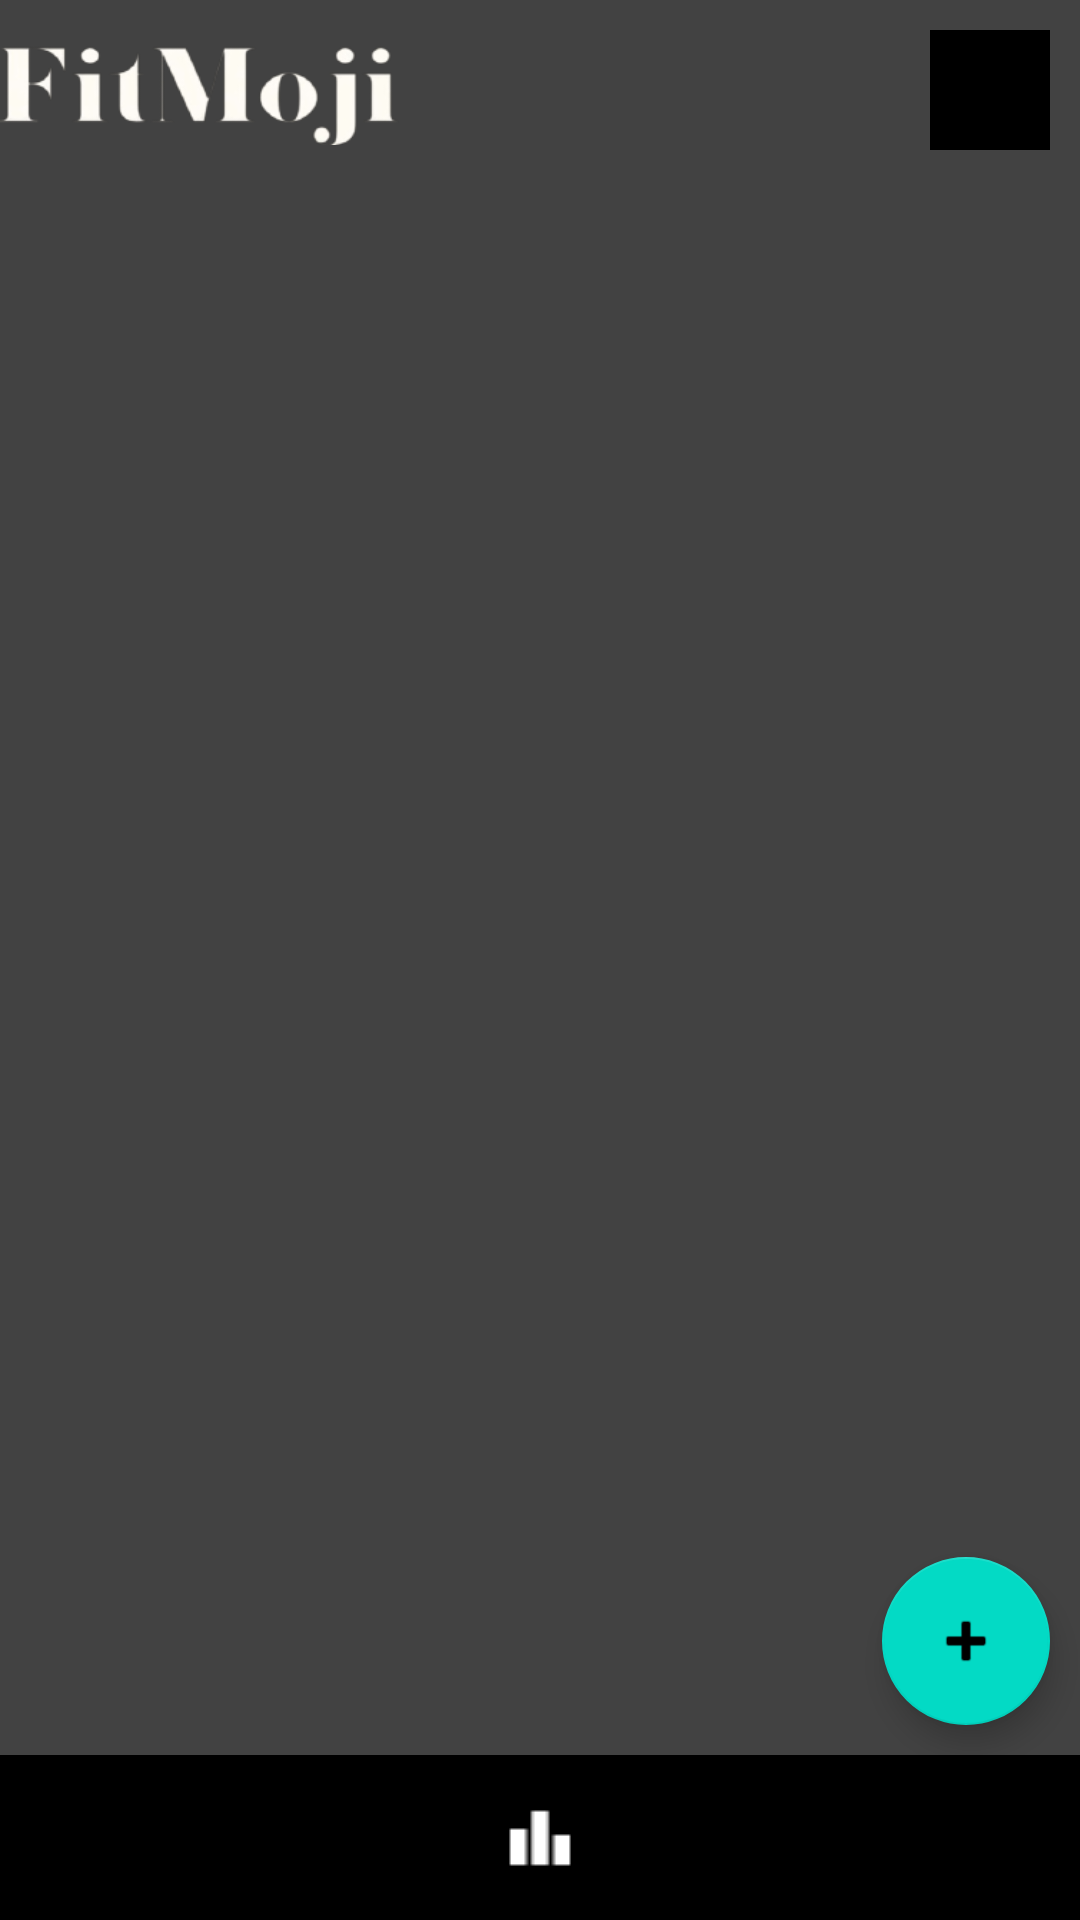

Where icons sit on this 1080px×1920px app screen, as [x1, y1, x2, y2]:
add: [882, 1557, 1050, 1725]
vote: [509, 1810, 571, 1866]
